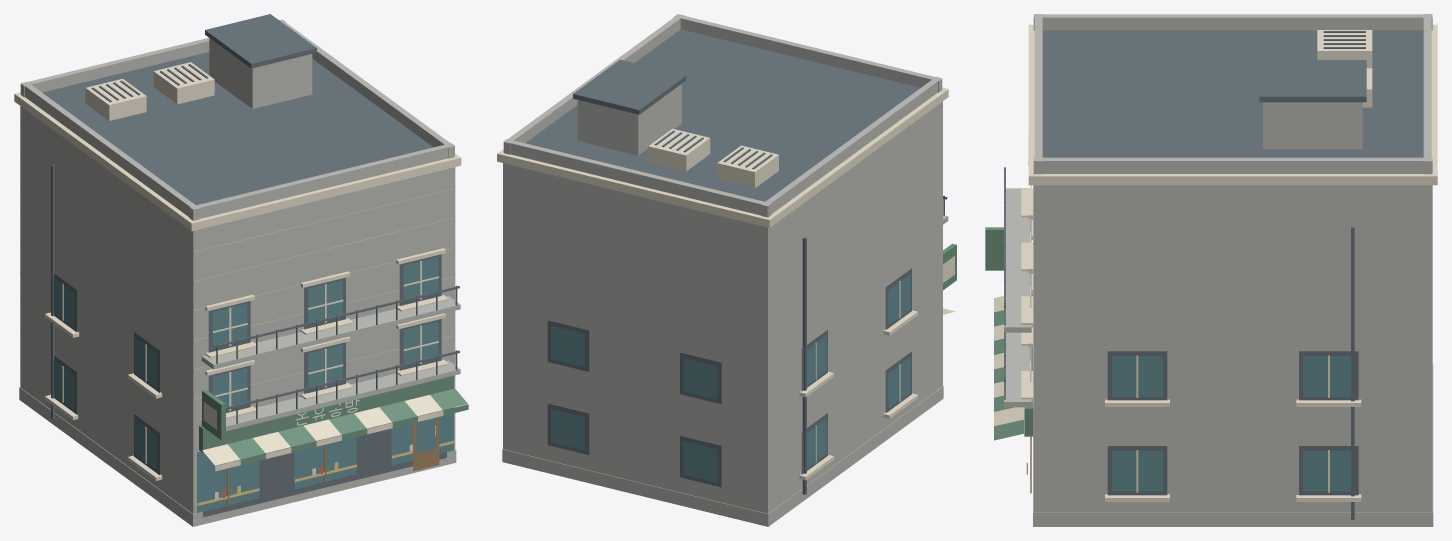
The model's file is q01-workshop.glb.
3 renders of one model, left to right at view 1: azimuth 30°, elevation 25°; view 2: azimuth 150°, elevation 25°; view 3: azimuth 270°, elevation 25°, orthographic. The views are drawn at different scales.
Bounding box in the file's own units: 7.34 × 9.01 × 9.07.
